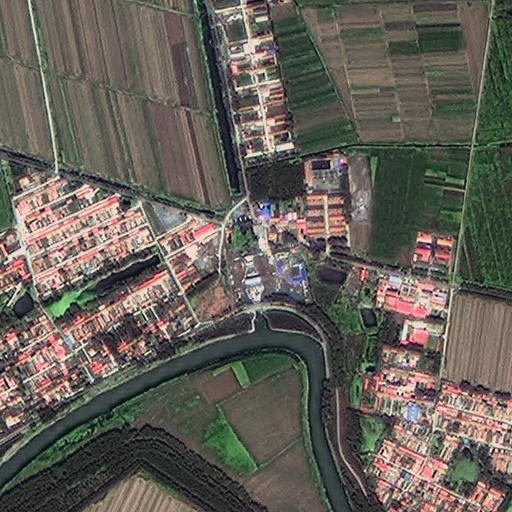school: (306, 153, 375, 250)
